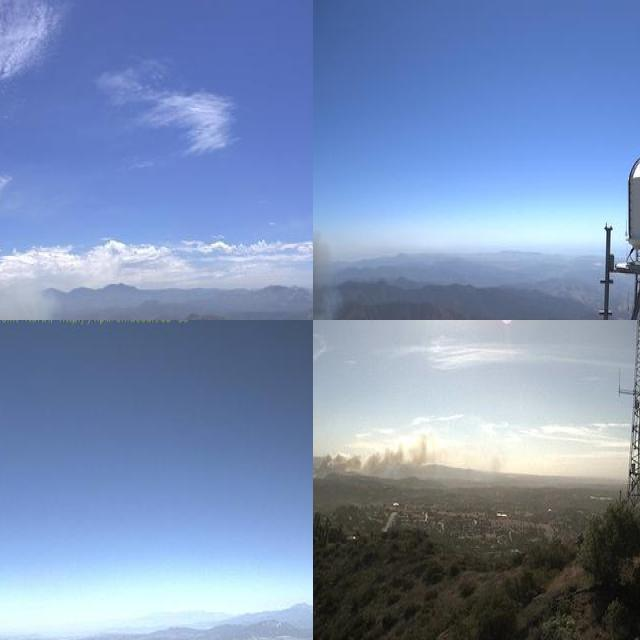smoke: (313, 424, 446, 488), (313, 222, 378, 320), (0, 250, 58, 320)
